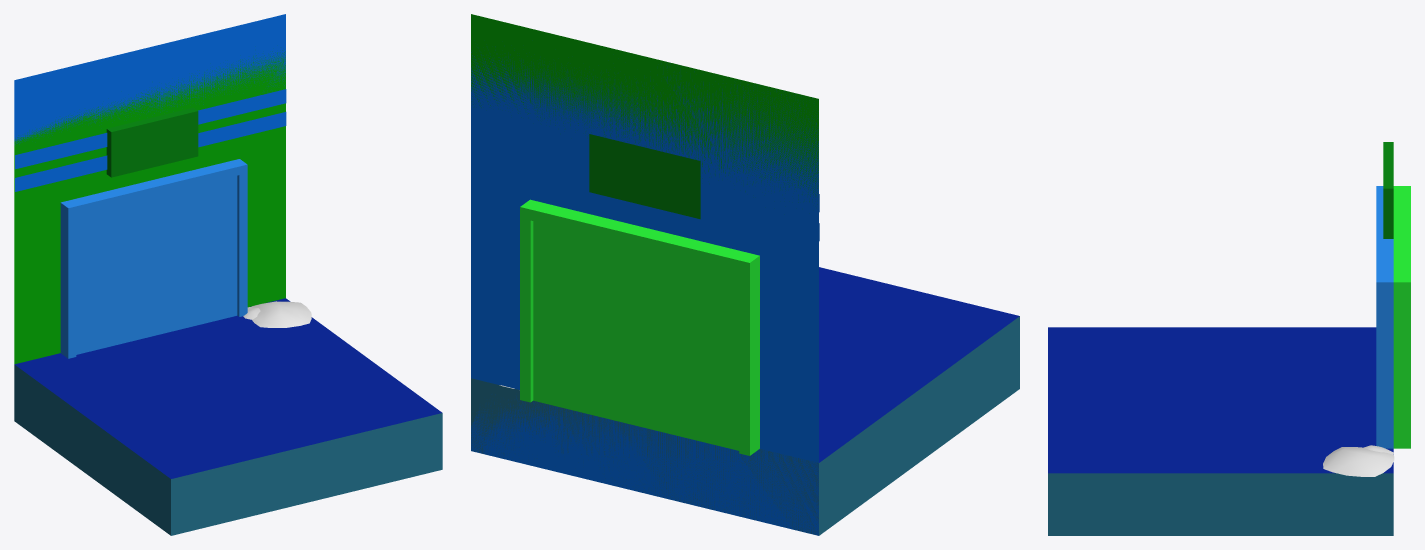
The model's file is arcade_tile_wall_door.fbx.
3 renders of one model, left to right at view 1: azimuth 30°, elevation 25°; view 2: azimuth 150°, elevation 25°; view 3: azimuth 270°, elevation 25°, orthographic. The views are drawn at different scales.
Visible parts, largest first — view 1: tile_floor, wall_backface068, wall025, door_right, door_left, doorway, exit_sign007, junk007; view 2: wall025, tile_floor, wall_backface068, door_left005, door_right005, doorway005, exit_sign007; view 3: tile_floor, doorway005, doorway, junk007, exit_sign007.
Part boxes in pixels (bbox=[...]): tile_floor: bbox=[14, 298, 442, 535]; wall_backface068: bbox=[14, 50, 285, 364]; wall025: bbox=[14, 14, 286, 191]; door_right: bbox=[156, 175, 237, 335]; door_left: bbox=[76, 195, 155, 354]; doorway: bbox=[60, 159, 247, 358]; exit_sign007: bbox=[106, 107, 198, 177]; junk007: bbox=[251, 301, 311, 327]; wall025: bbox=[471, 46, 819, 535]; tile_floor: bbox=[471, 267, 1019, 535]; wall_backface068: bbox=[471, 14, 818, 204]; door_left005: bbox=[533, 221, 637, 425]; door_right005: bbox=[637, 246, 739, 450]; doorway005: bbox=[520, 199, 759, 455]; exit_sign007: bbox=[589, 134, 700, 219]; tile_floor: bbox=[1048, 327, 1393, 535]; doorway005: bbox=[1393, 186, 1410, 448]; doorway: bbox=[1376, 186, 1393, 448]; junk007: bbox=[1323, 447, 1394, 476]; exit_sign007: bbox=[1383, 142, 1393, 238].
Size of the model in its own units: 5.13 by 6 by 5.25.
